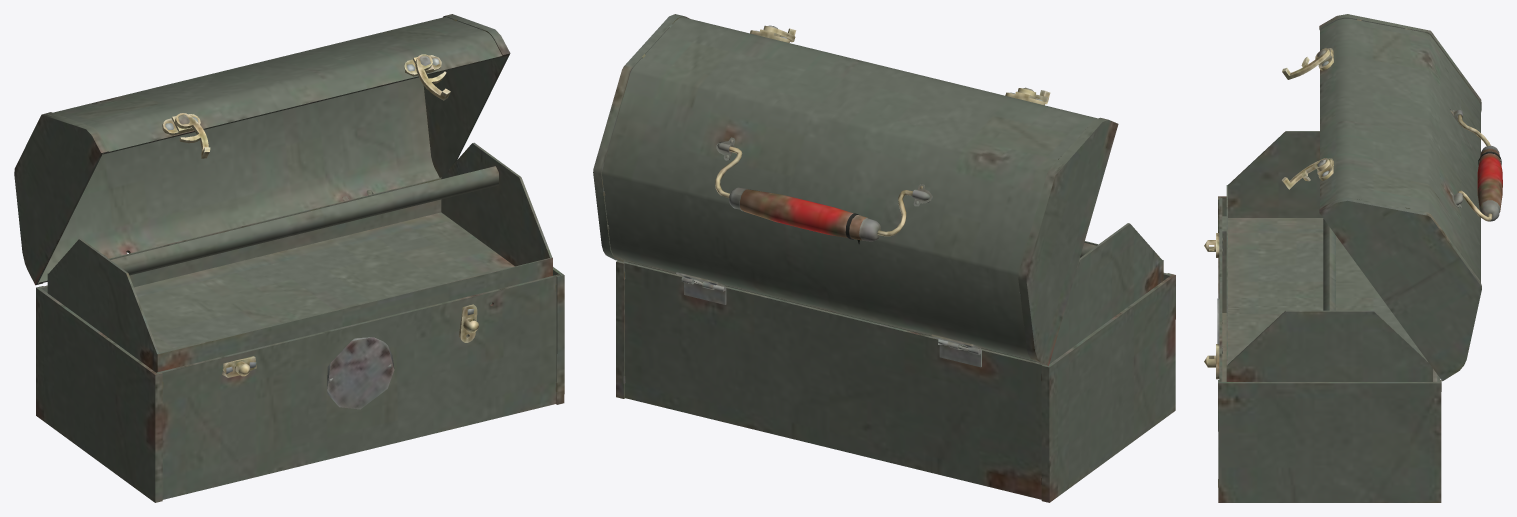
The model's file is metal_toolbox.glb.
The picture shows the model from 3 angles, left to right: view 1: azimuth 30°, elevation 25°; view 2: azimuth 150°, elevation 25°; view 3: azimuth 270°, elevation 25°; orthographic projection. The views are drawn at different scales.
Parts seen in each view (by area): view 1: metal_toolbox_lid, metal_toolbox, metal_toolbox_tray, metal_toolbox_handle_latch_r, metal_toolbox_handle_latch_l; view 2: metal_toolbox_lid, metal_toolbox, metal_toolbox_tray, metal_toolbox_handle; view 3: metal_toolbox_lid, metal_toolbox_tray, metal_toolbox, metal_toolbox_handle, metal_toolbox_handle_latch_l, metal_toolbox_handle_latch_r.
Part boxes in pixels (x1=…): metal_toolbox_lid: x1=14, y1=14, x2=510, y2=285; metal_toolbox: x1=36, y1=267, x2=564, y2=502; metal_toolbox_tray: x1=47, y1=142, x2=552, y2=372; metal_toolbox_handle_latch_r: x1=415, y1=54, x2=450, y2=100; metal_toolbox_handle_latch_l: x1=175, y1=113, x2=210, y2=158; metal_toolbox_lid: x1=593, y1=14, x2=1118, y2=365; metal_toolbox: x1=616, y1=260, x2=1175, y2=502; metal_toolbox_tray: x1=628, y1=223, x2=1163, y2=363; metal_toolbox_handle: x1=715, y1=146, x2=912, y2=244; metal_toolbox_lid: x1=1317, y1=14, x2=1481, y2=381; metal_toolbox_tray: x1=1226, y1=131, x2=1432, y2=381; metal_toolbox: x1=1204, y1=196, x2=1441, y2=502; metal_toolbox_handle: x1=1458, y1=114, x2=1502, y2=221; metal_toolbox_handle_latch_l: x1=1282, y1=48, x2=1330, y2=79; metal_toolbox_handle_latch_r: x1=1282, y1=158, x2=1330, y2=189.
Bounding box in the file's own units: 0.4 × 0.3047 × 0.2705.
1 material, 1 textured.
